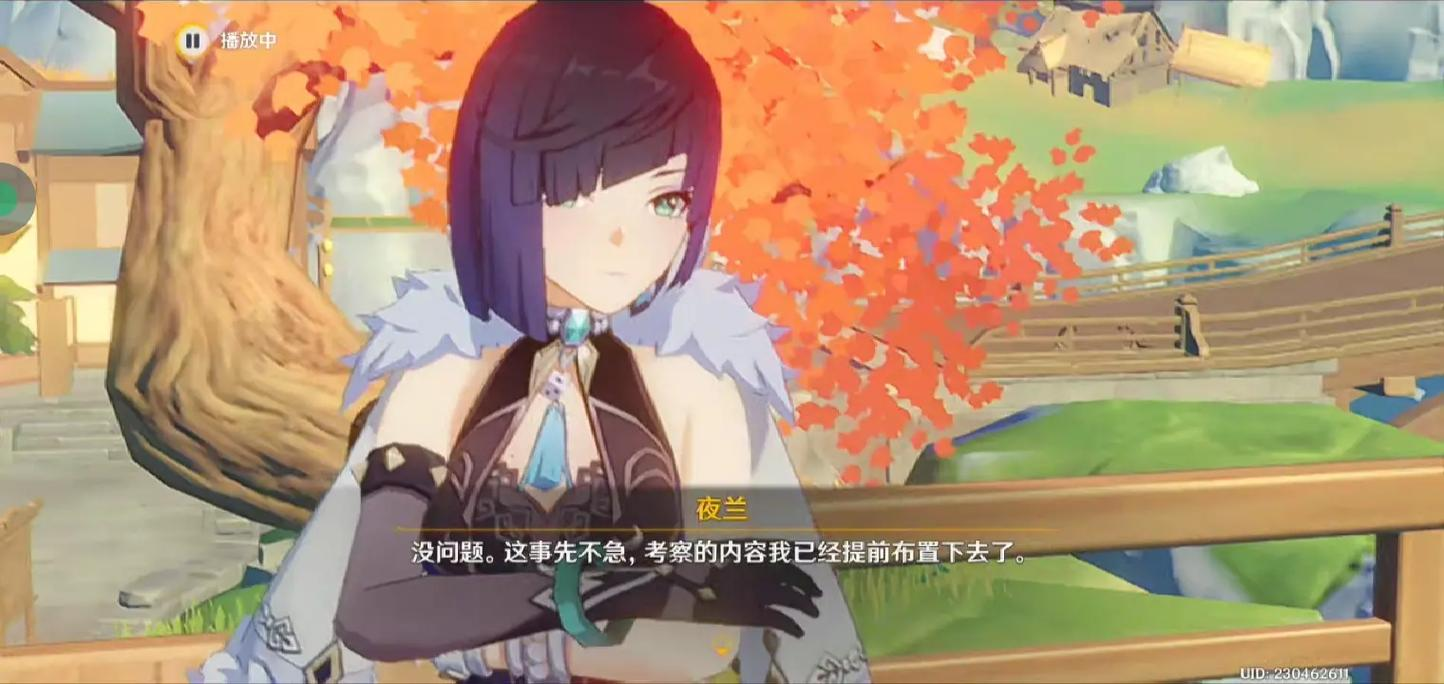夜兰: (317, 4, 832, 684)
